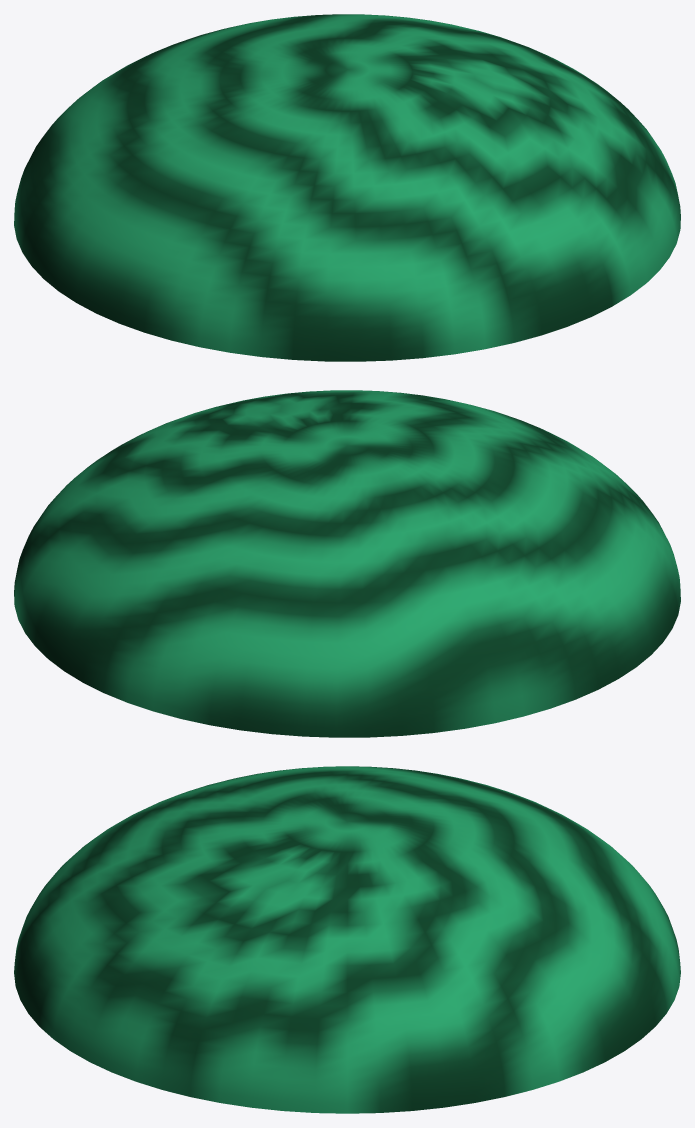
Rendered from malachite.glb.
3 views of the same model, one above another, from view 1: azimuth 30°, elevation 25°; view 2: azimuth 150°, elevation 25°; view 3: azimuth 270°, elevation 25° (orthographic).
Parts seen in each view (by area): view 1: malachite; view 2: malachite; view 3: malachite.
Boxes of the visible parts, bbox=[...] form: malachite: bbox=[14, 14, 680, 361]; malachite: bbox=[14, 390, 680, 737]; malachite: bbox=[14, 766, 680, 1113].
Size of the model in its own units: 0.25 by 0.0625 by 0.25.
